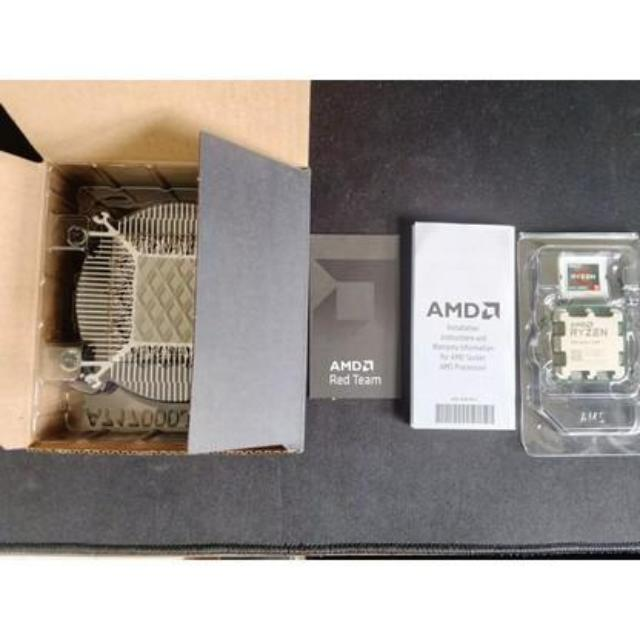CPU: (556, 306, 627, 388)
CPU_Fan: (52, 205, 200, 410)
